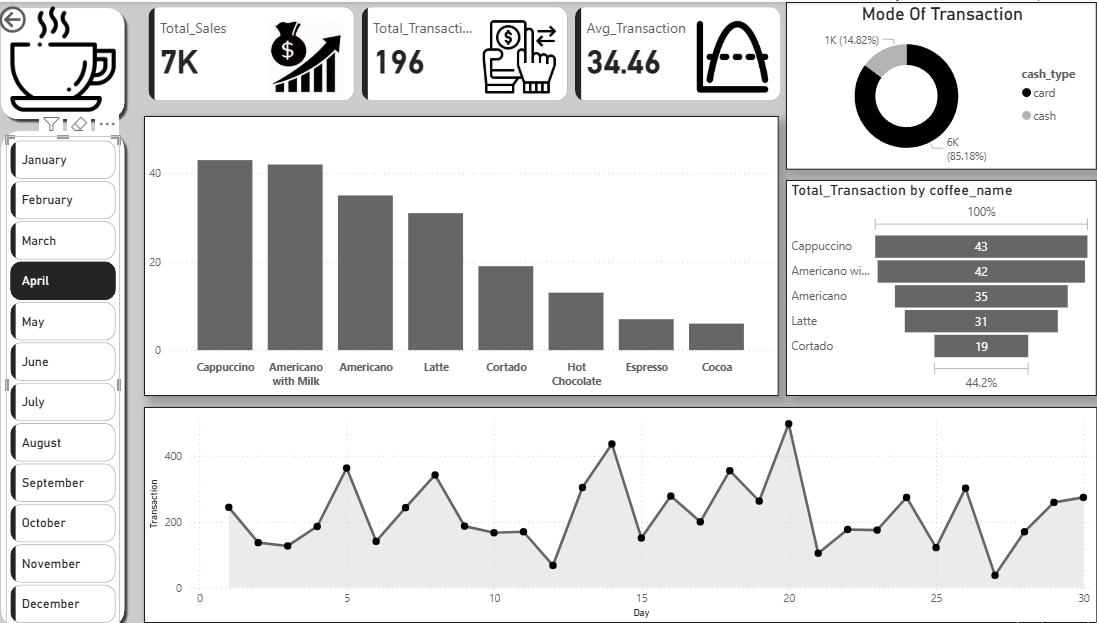

Layout of this report page (visuals, bound fields, positions):
{"tool":"powerbi","page":{"name":"Page 1","canvas":[1280,720],"ordinal":0},"visuals":[{"type":"shape","box":[0,0,154.3,140.2],"z":0},{"type":"image","box":[12.7,0,130,130],"z":1000},{"type":"shape","box":[0,140.2,154.3,580.1],"z":2000},{"type":"advancedSlicerVisual","fields":{"Values":["index.date.Variation.Date Hierarchy.Month"]},"box":[12.7,153,130,567.3],"z":3000},{"type":"actionButton","box":[0,0,100,40],"z":4000},{"type":"cardVisual","fields":{"Data":["index.Total","index.Total_Transaction","index.Average_Transaction"]},"box":[169.6,0,731.8,118.6],"z":4001},{"type":"columnChart","fields":{"Category":["index.coffee_name"],"Y":["index.Total_Transaction"]},"box":[169.6,130,722.9,318.7],"z":4002},{"type":"donutChart","title":"Mode Of Transaction","fields":{"Category":["index.cash_type"],"Y":["index.Total"]},"box":[901.4,0,354.4,191.2],"z":4003},{"type":"funnel","fields":{"Y":["index.Total_Transaction"],"Category":["index.coffee_name"]},"box":[901.4,202.7,354.4,246.1],"z":4004},{"type":"lineChart","fields":{"Category":["index.date.Variation.Date Hierarchy.Day"],"Y":["index.Total"]},"box":[169.6,461.5,1086.2,246.1],"z":4005}]}

Visuals, with their boxes in screenshot pixels (x1, y1, x2, y2), scaled from the page's 1280x720 canvas onto the 1097x623 screenshot:
shape: bbox(0, 0, 132, 121)
image: bbox(11, 0, 122, 112)
shape: bbox(0, 121, 132, 622)
advancedSlicerVisual - index.date.Variation.Date Hierarchy.Month: bbox(11, 132, 122, 622)
actionButton: bbox(0, 0, 86, 35)
cardVisual - index.Total x index.Total_Transaction: bbox(145, 0, 773, 103)
columnChart - index.coffee_name x index.Total_Transaction: bbox(145, 112, 765, 388)
"Mode Of Transaction" donutChart: bbox(773, 0, 1076, 165)
funnel - index.Total_Transaction x index.coffee_name: bbox(773, 175, 1076, 388)
lineChart - index.date.Variation.Date Hierarchy.Day x index.Total: bbox(145, 399, 1076, 612)
